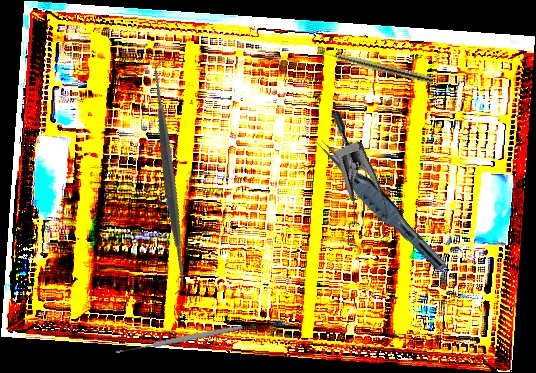Handpiece: (315, 46, 435, 85)
Spatula Surgical: (50, 56, 289, 296)
Speculum: (281, 109, 417, 261)
Surgical Spoon: (115, 323, 243, 356)
Tissue Forceps: (307, 134, 456, 274)
